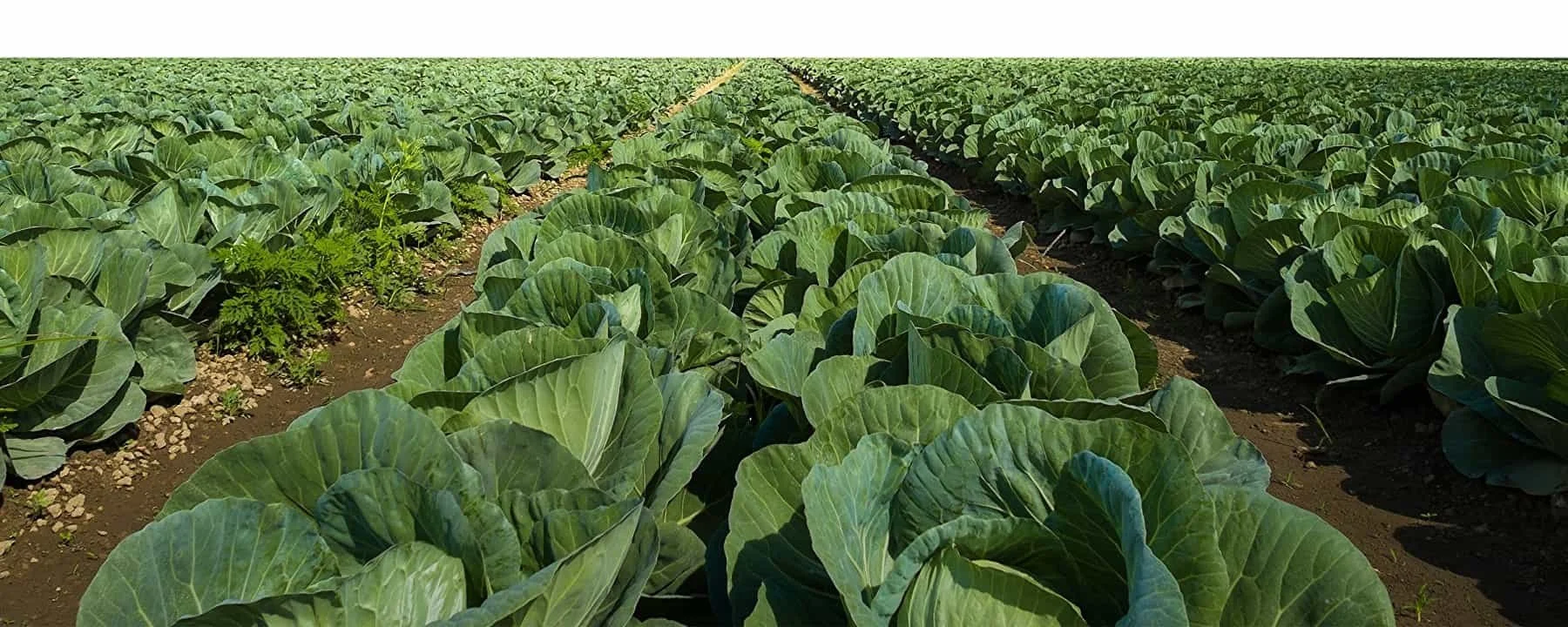Lux Soap: (78, 31, 1490, 596)
